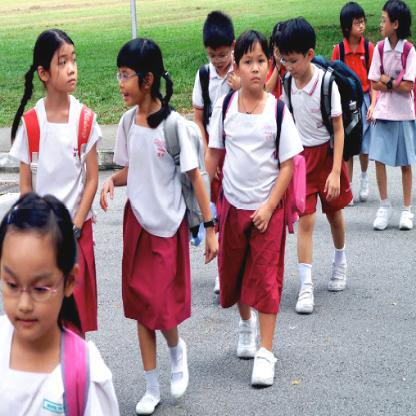person: (113, 39, 199, 415), (211, 25, 292, 390), (0, 193, 108, 415), (278, 17, 352, 317), (13, 23, 98, 198), (368, 0, 416, 235), (190, 9, 236, 112), (337, 1, 372, 76)
